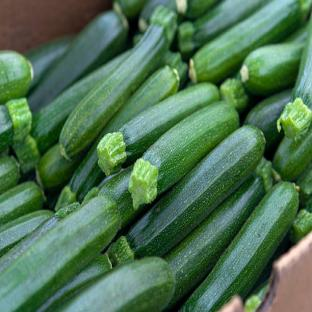Zucchini: (126, 126, 264, 257), (60, 7, 176, 159), (182, 182, 298, 311), (70, 67, 179, 200), (0, 196, 119, 311), (165, 176, 265, 306), (129, 102, 239, 208), (98, 83, 219, 175), (190, 0, 311, 82), (31, 51, 129, 152), (29, 10, 127, 111), (57, 258, 174, 311), (178, 0, 268, 57), (37, 254, 111, 311), (278, 20, 311, 139), (0, 217, 61, 273), (241, 42, 305, 95), (99, 166, 147, 229), (245, 90, 292, 151), (24, 37, 72, 92), (0, 211, 53, 256), (273, 125, 311, 180), (37, 144, 80, 189), (0, 182, 43, 225), (0, 51, 33, 104), (0, 99, 32, 152), (277, 98, 311, 140), (139, 0, 176, 32), (12, 135, 40, 173), (220, 78, 249, 113), (163, 51, 188, 89), (108, 236, 134, 266), (0, 156, 19, 194), (245, 281, 269, 311), (290, 210, 311, 244), (0, 106, 14, 152), (255, 157, 273, 191), (55, 185, 77, 212), (297, 164, 311, 206), (285, 23, 308, 42), (56, 203, 80, 217), (305, 199, 311, 213)
